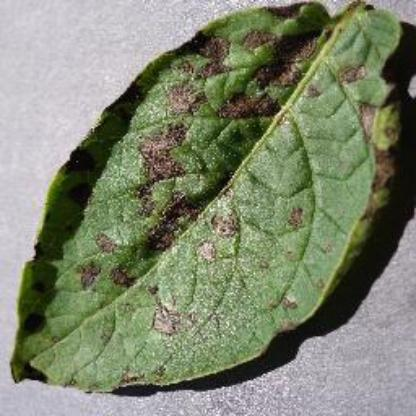Early-Blight: (10, 2, 408, 390)
